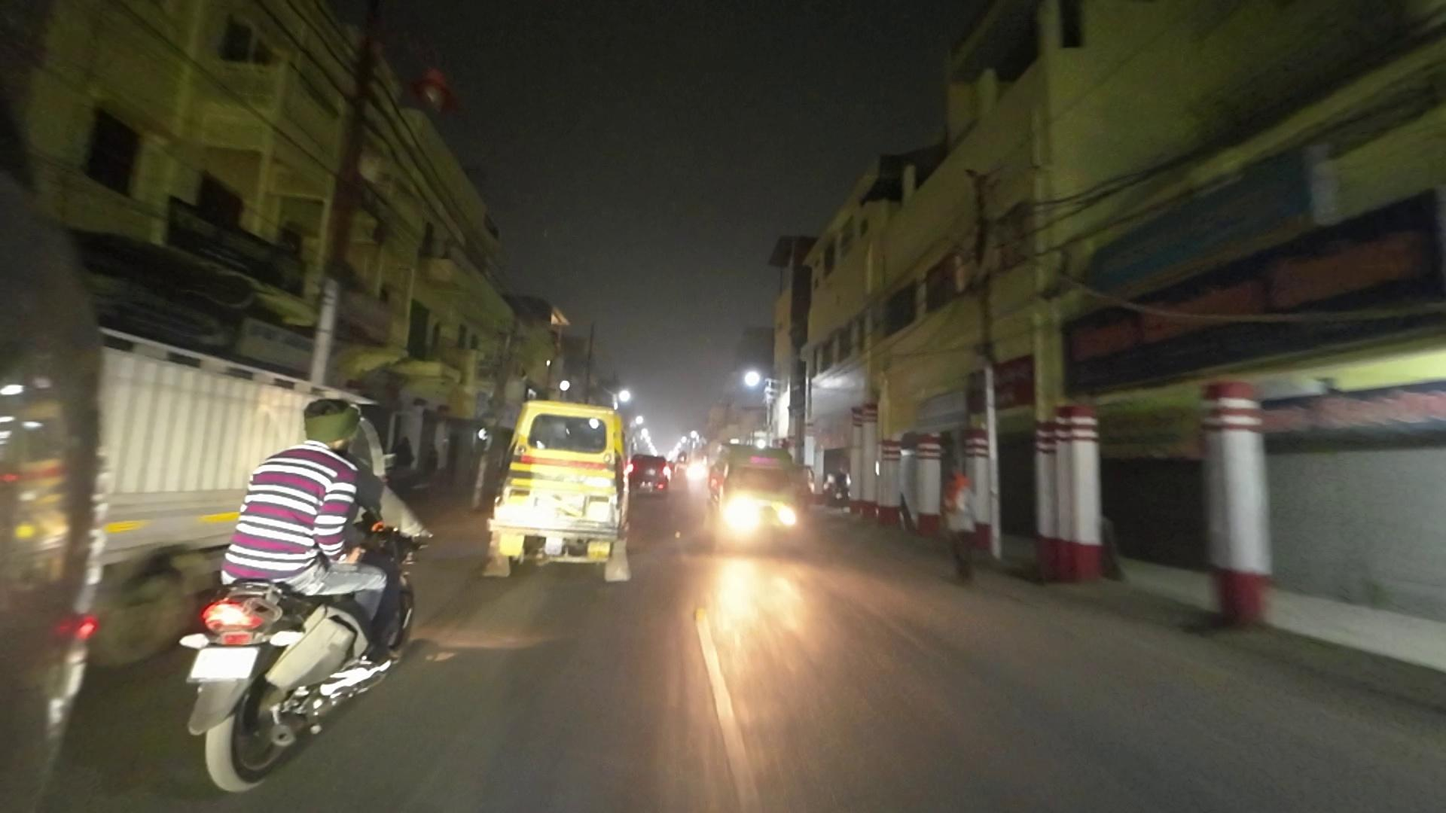streetlight: (396, 61, 464, 120)
